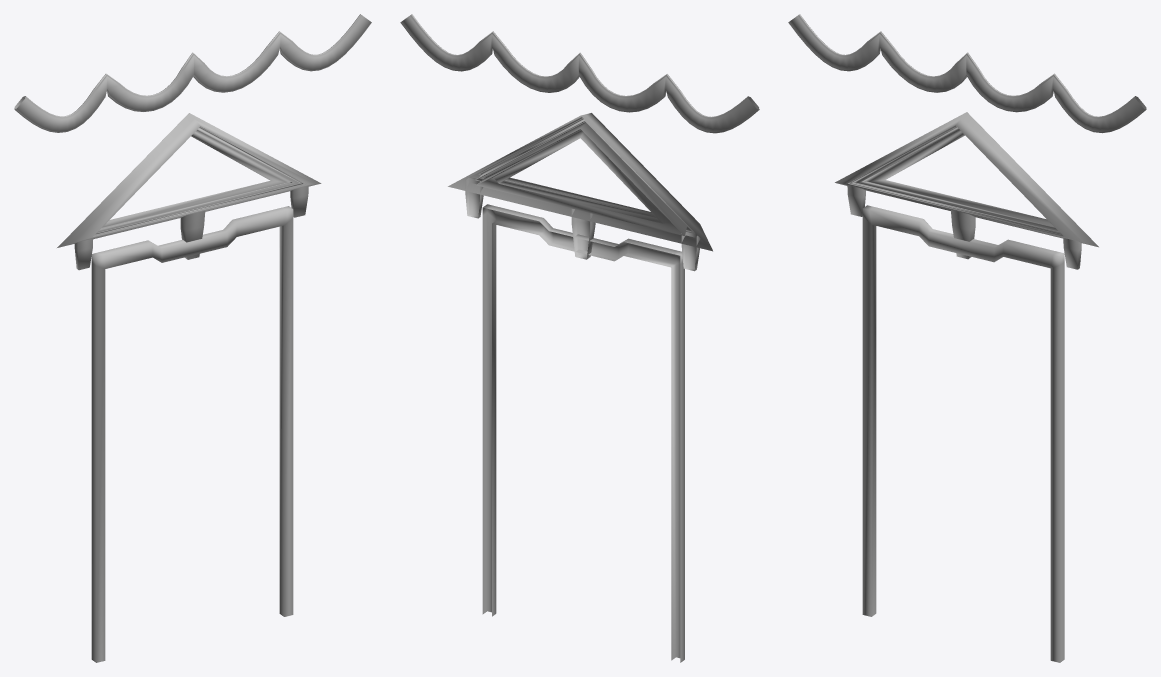
Rendered from DetalheJanelaSuperiorLateralTriangular.fbx.
3 renders of one model, left to right at view 1: azimuth 30°, elevation 25°; view 2: azimuth 150°, elevation 25°; view 3: azimuth 330°, elevation 25°, orthographic.
Parts seen in each view (by area): view 1: TrianguloDetalheJanelaSuperiorLateralTriangular, CurvaDetalheJanelaSuperiorLateralTriangular; view 2: TrianguloDetalheJanelaSuperiorLateralTriangular, CurvaDetalheJanelaSuperiorLateralTriangular; view 3: TrianguloDetalheJanelaSuperiorLateralTriangular, CurvaDetalheJanelaSuperiorLateralTriangular.
Part boxes in pixels (bbox=[...]): TrianguloDetalheJanelaSuperiorLateralTriangular: bbox=[57, 113, 321, 662]; CurvaDetalheJanelaSuperiorLateralTriangular: bbox=[14, 14, 371, 132]; TrianguloDetalheJanelaSuperiorLateralTriangular: bbox=[448, 113, 712, 662]; CurvaDetalheJanelaSuperiorLateralTriangular: bbox=[400, 14, 759, 133]; TrianguloDetalheJanelaSuperiorLateralTriangular: bbox=[835, 112, 1098, 662]; CurvaDetalheJanelaSuperiorLateralTriangular: bbox=[788, 14, 1146, 133].
Bounding box in the file's own units: 186 × 290 × 10.47.
